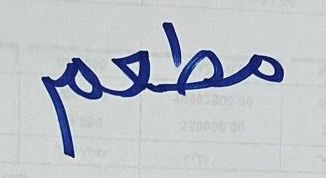kaf: (106, 42, 152, 100)
meem: (30, 51, 104, 161), (233, 42, 292, 96)
tah: (154, 15, 231, 101)
